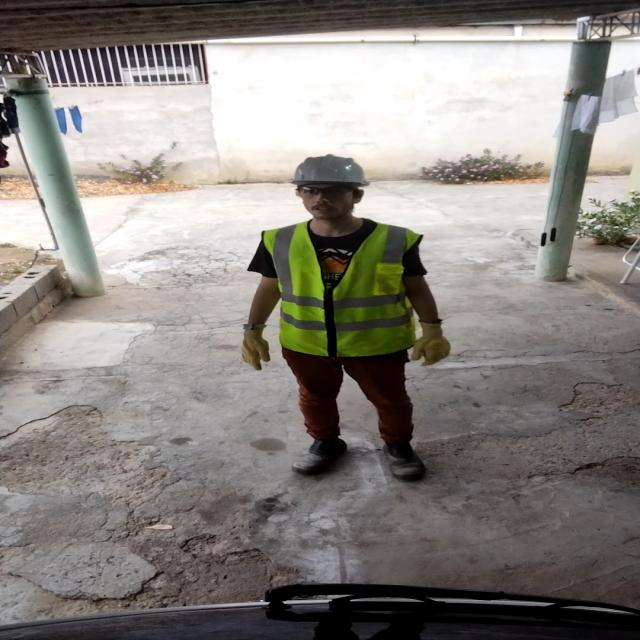glove: (409, 317, 462, 365), (239, 320, 277, 368)
helmet: (278, 152, 376, 202)
pants: (276, 347, 418, 448)
vest: (262, 221, 433, 353)
